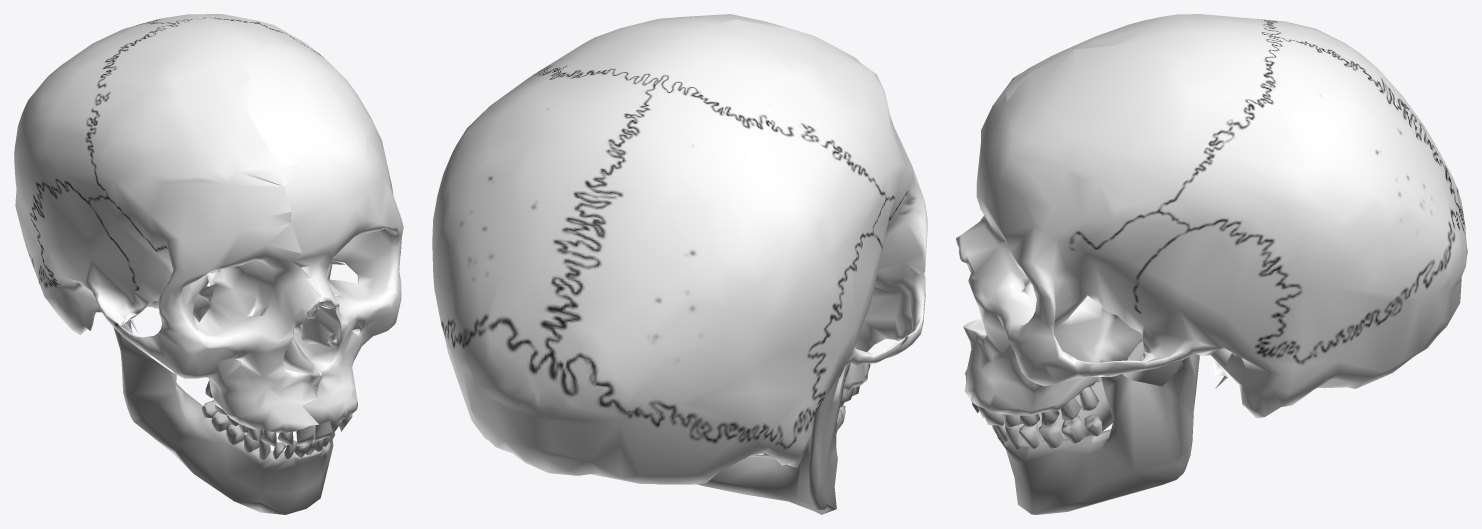
File: Skull.obj
3 renders of one model, left to right at view 1: azimuth 30°, elevation 25°; view 2: azimuth 150°, elevation 25°; view 3: azimuth 270°, elevation 25°, orthographic. The views are drawn at different scales.
Visible parts, largest first — view 1: SKULL, MANDIBLE, SKTEETH, SKTEETH01; view 2: SKULL, MANDIBLE; view 3: SKULL, MANDIBLE, SKTEETH, SKTEETH01.
Boxes of the visible parts, left/top/right/bottom form: SKULL: left=14, top=14, right=403, bottom=432; MANDIBLE: left=113, top=264, right=333, bottom=514; SKTEETH: left=201, top=400, right=334, bottom=459; SKTEETH01: left=205, top=380, right=352, bottom=447; SKULL: left=432, top=14, right=927, bottom=484; MANDIBLE: left=696, top=364, right=850, bottom=514; SKULL: left=956, top=14, right=1467, bottom=418; MANDIBLE: left=997, top=341, right=1199, bottom=514; SKTEETH: left=991, top=376, right=1102, bottom=449; SKTEETH01: left=972, top=387, right=1099, bottom=427.
Bounding box in the file's own units: 379 × 511 × 505.
